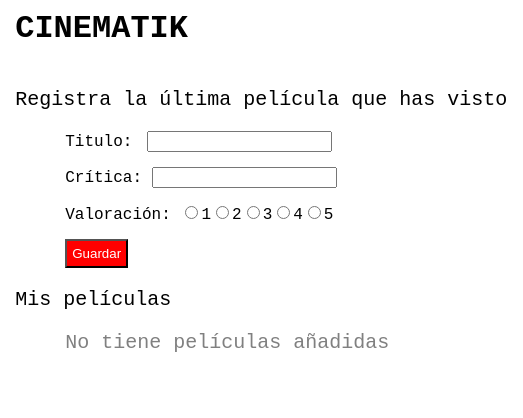
Test: Valora una película
The width and height of the screenshot is (523, 418).
Step 1. Type "Star Wars" into the field labelled "Titulo:" → (240, 142), box [147, 131, 332, 152]
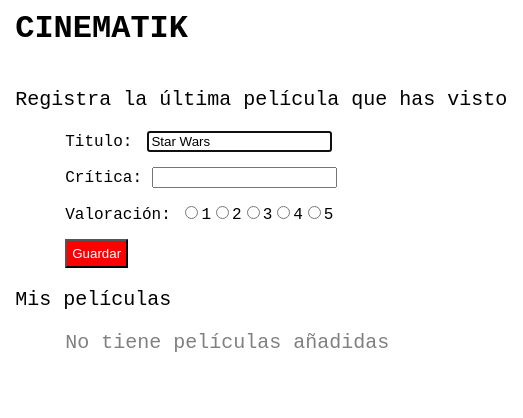
Step 2. Click the radio button labelled "2" → (222, 213), box [216, 206, 229, 219]
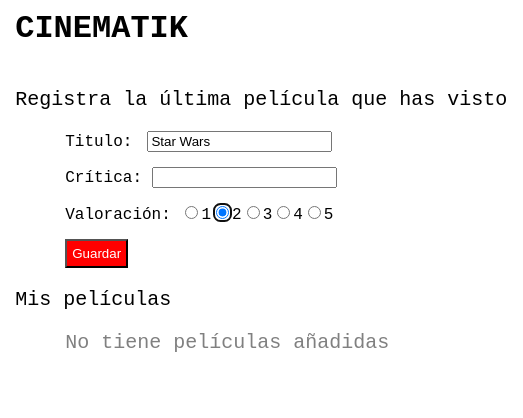
Step 3. Click the button "Guardar" → (97, 254), box [65, 239, 128, 268]
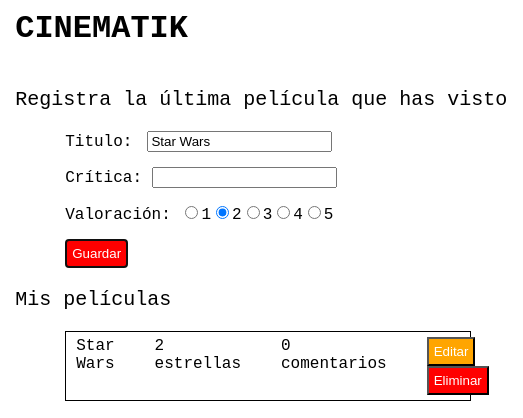
Now the text "2 estrellas" is shown, box [155, 337, 241, 395]
